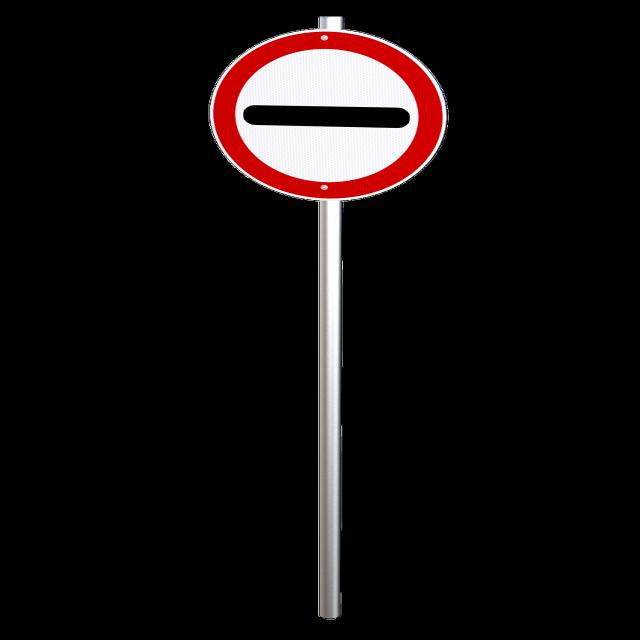no entry: (205, 24, 449, 206)
